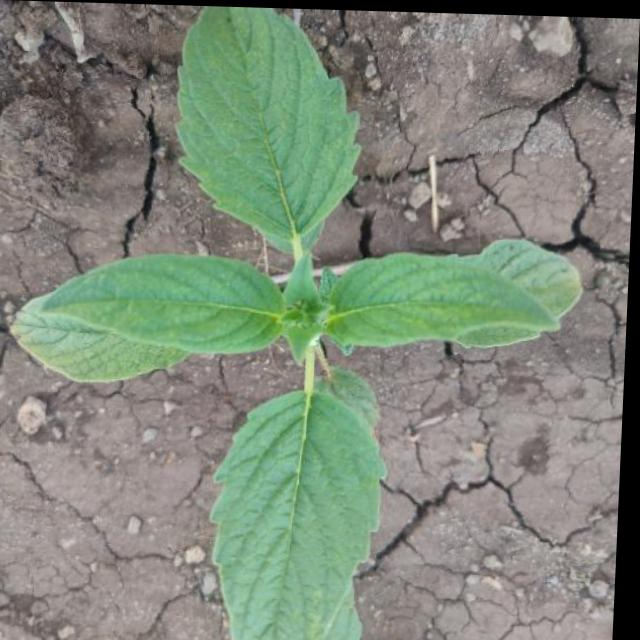crop: (0, 3, 597, 640)
